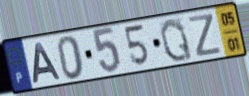0: (56, 34, 86, 82)
5: (90, 25, 123, 76), (122, 25, 152, 69)
A: (32, 41, 64, 86)
Q: (159, 17, 195, 64)
Z: (187, 12, 224, 59)
